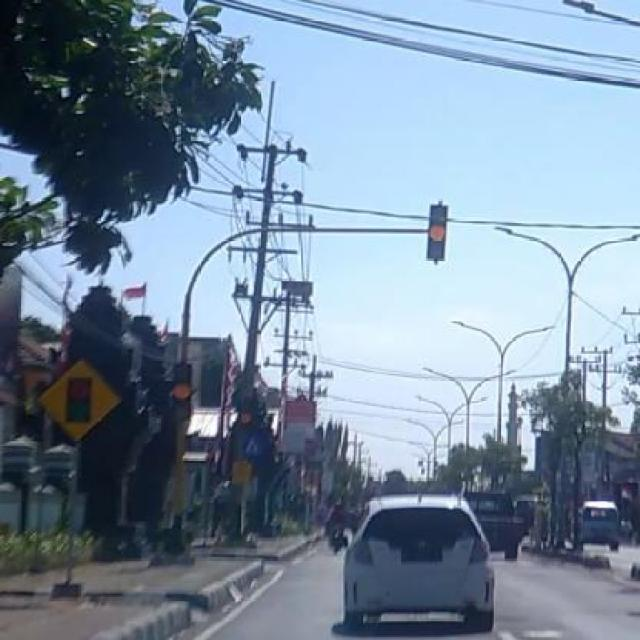traffic light: (171, 365, 196, 423), (426, 208, 451, 263)
